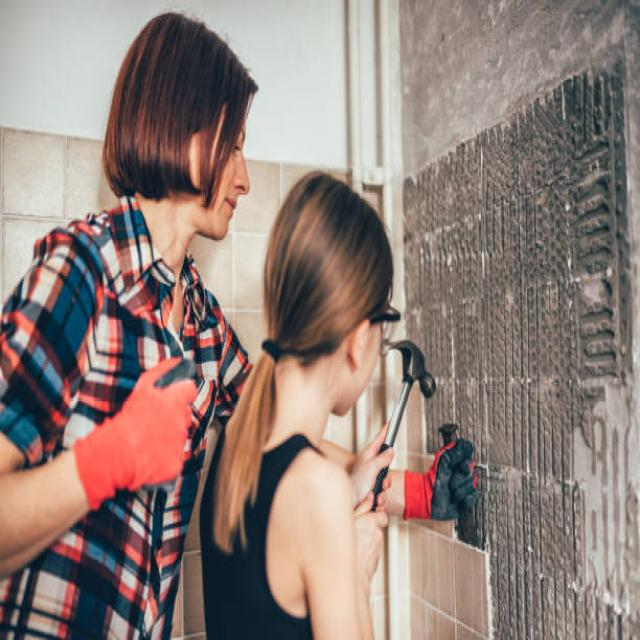gloves: (72, 353, 199, 510), (398, 439, 480, 526)
